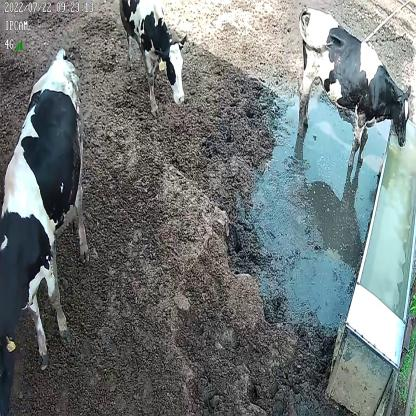cow: (0, 45, 89, 410), (295, 8, 412, 169), (120, 0, 188, 116)
